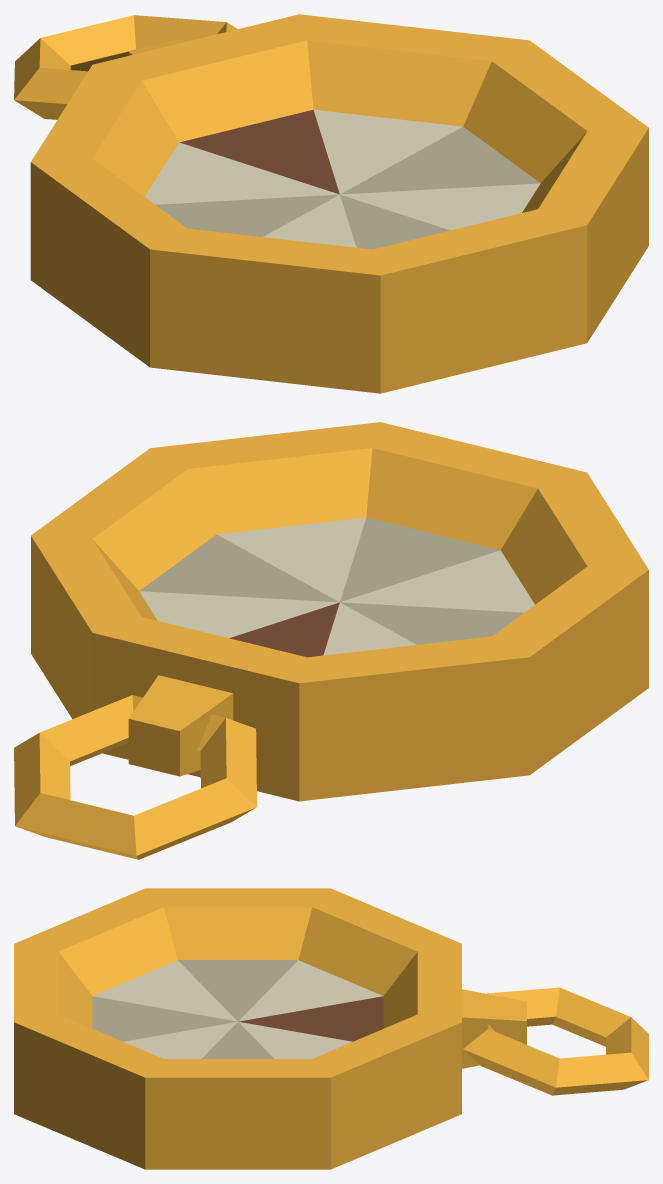
Rendered from Compass.fbx.
3 renders of one model, top to bottom at view 1: azimuth 30°, elevation 25°; view 2: azimuth 150°, elevation 25°; view 3: azimuth 270°, elevation 25°, orthographic. The views are drawn at different scales.
Visible parts, largest first — view 1: Compass; view 2: Compass; view 3: Compass.
Part boxes in pixels (x1,y1,x2,y2): Compass: [14, 14, 648, 393]; Compass: [14, 422, 648, 859]; Compass: [14, 888, 648, 1169].
Size of the model in its own units: 12.27 by 2.78 by 17.39.
